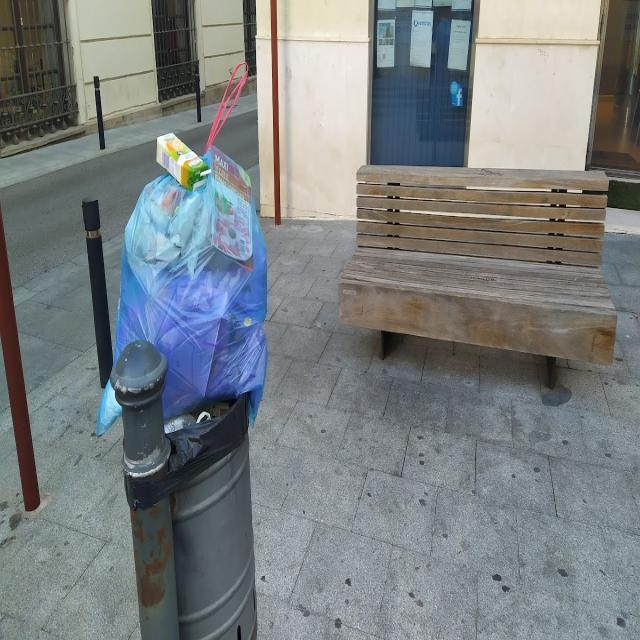garbage: (90, 57, 316, 459)
